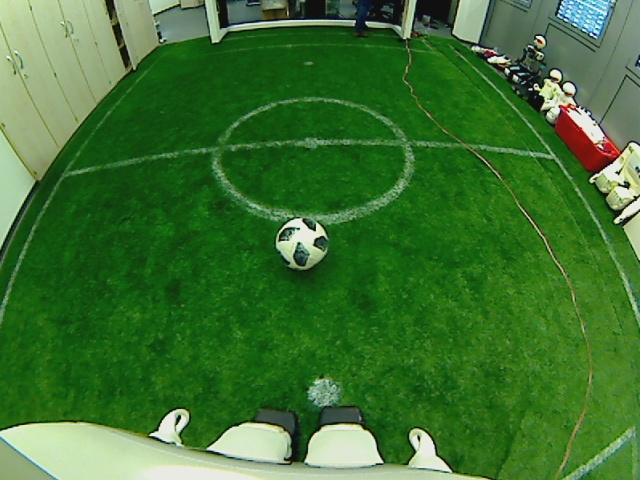ball: (273, 213, 330, 270)
